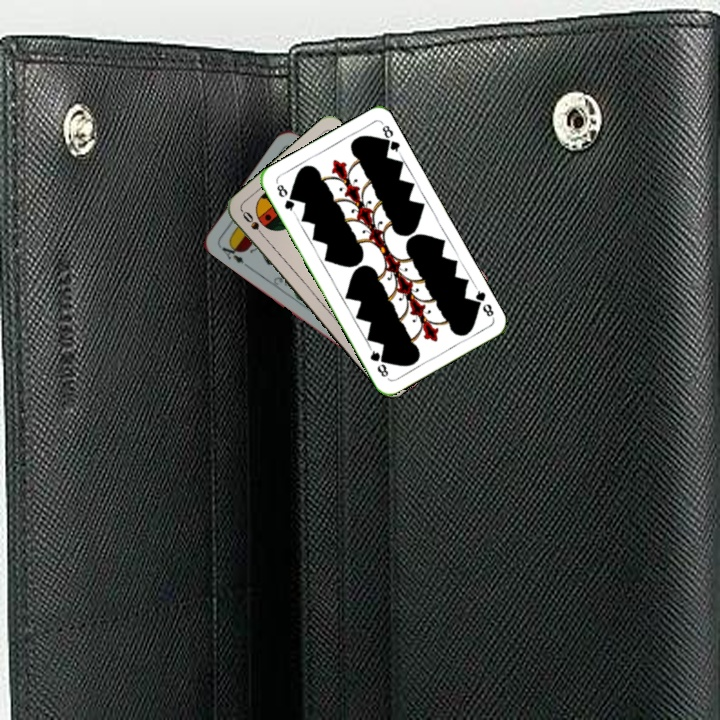EA: (214, 238, 250, 269)
G8: (468, 283, 497, 320), (272, 180, 298, 216)
SO: (238, 207, 269, 241)
